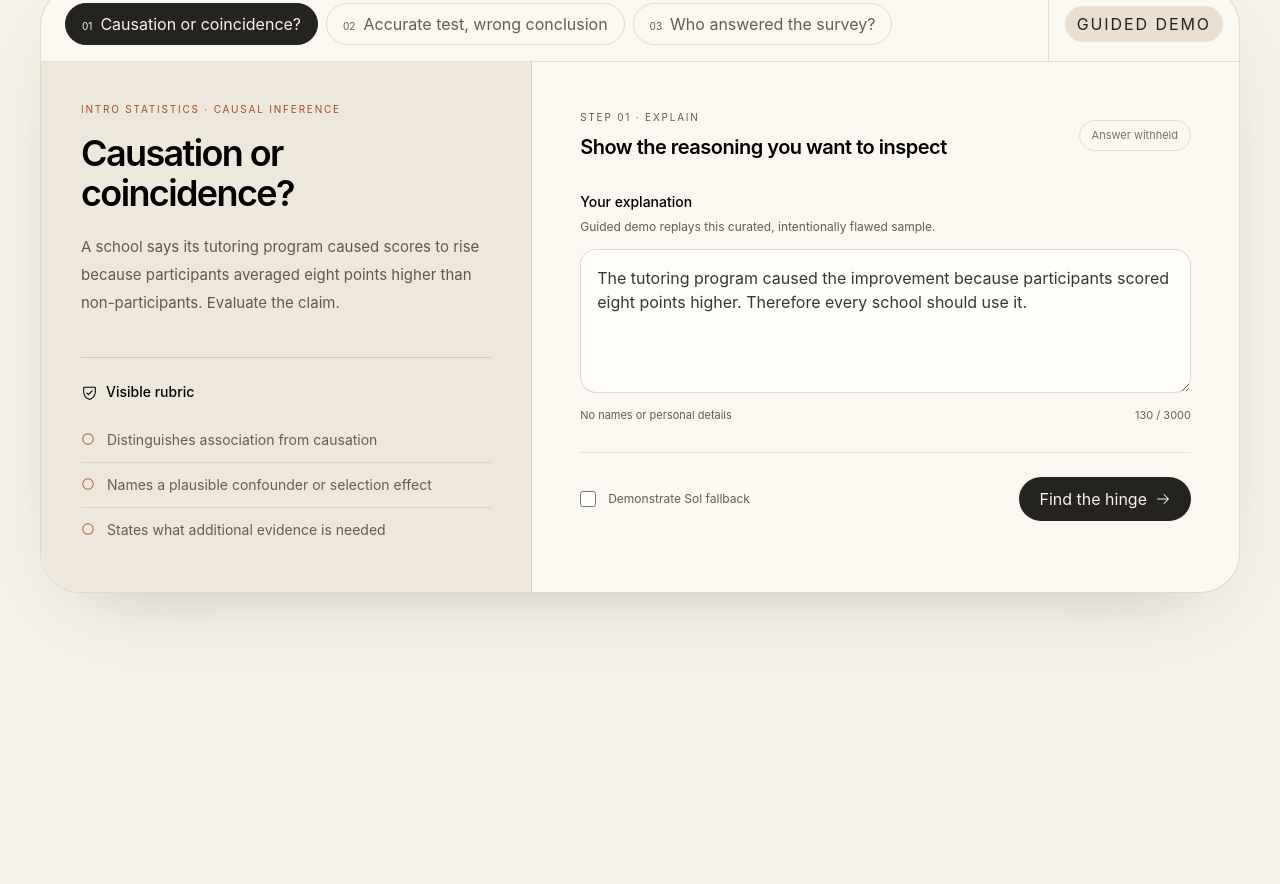
RepairStudio › retries a failed receipt without losing the learner revision
Click the button "Find the hinge" at {"x": 1105, "y": 498}, box x1=1020 y1=476 x2=1191 y2=520
(page scrolled)
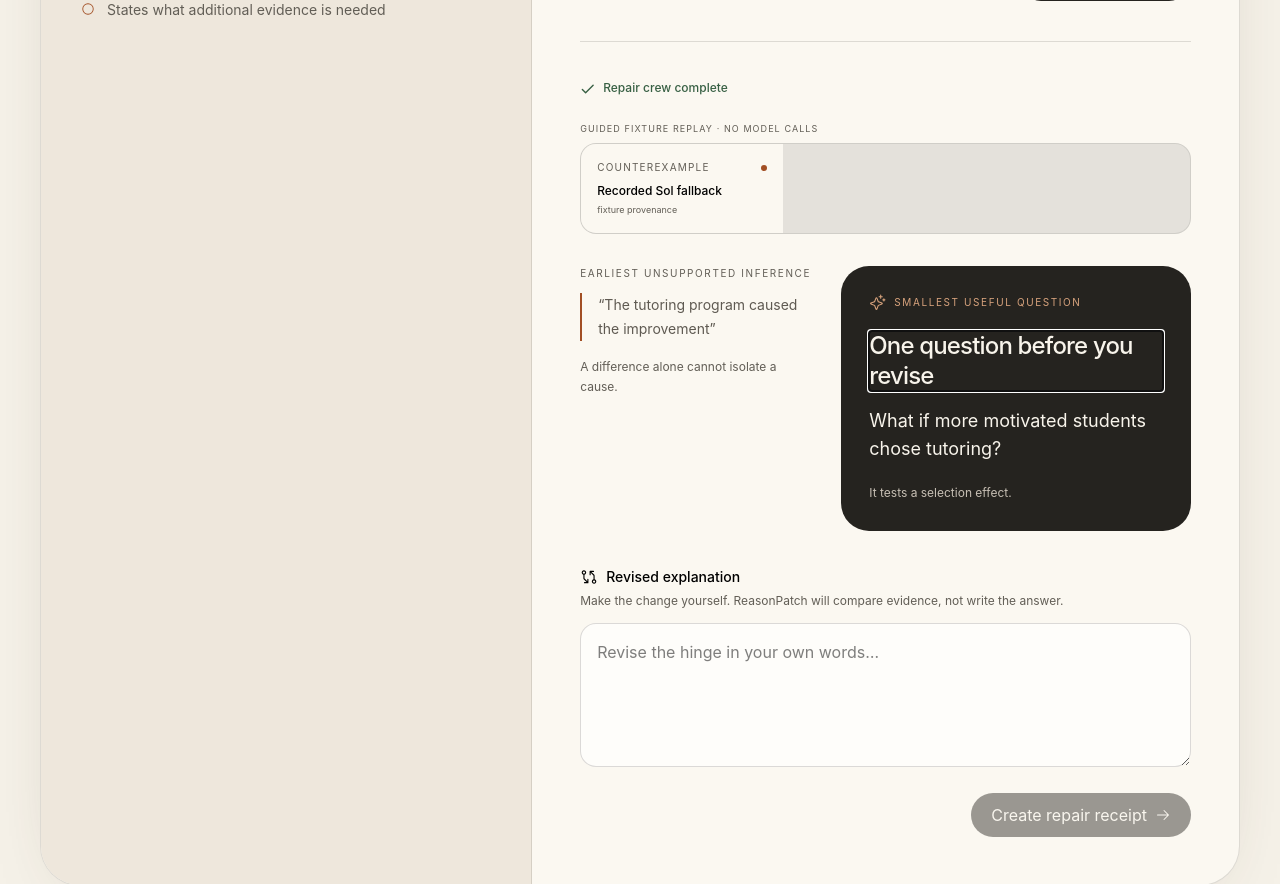
Type "The observed difference does not establish causation because students self-selected; a controlled comparison would be stronger." into the text box labelled "Revised explanation" at {"x": 886, "y": 694}, box x1=580 y1=622 x2=1191 y2=766
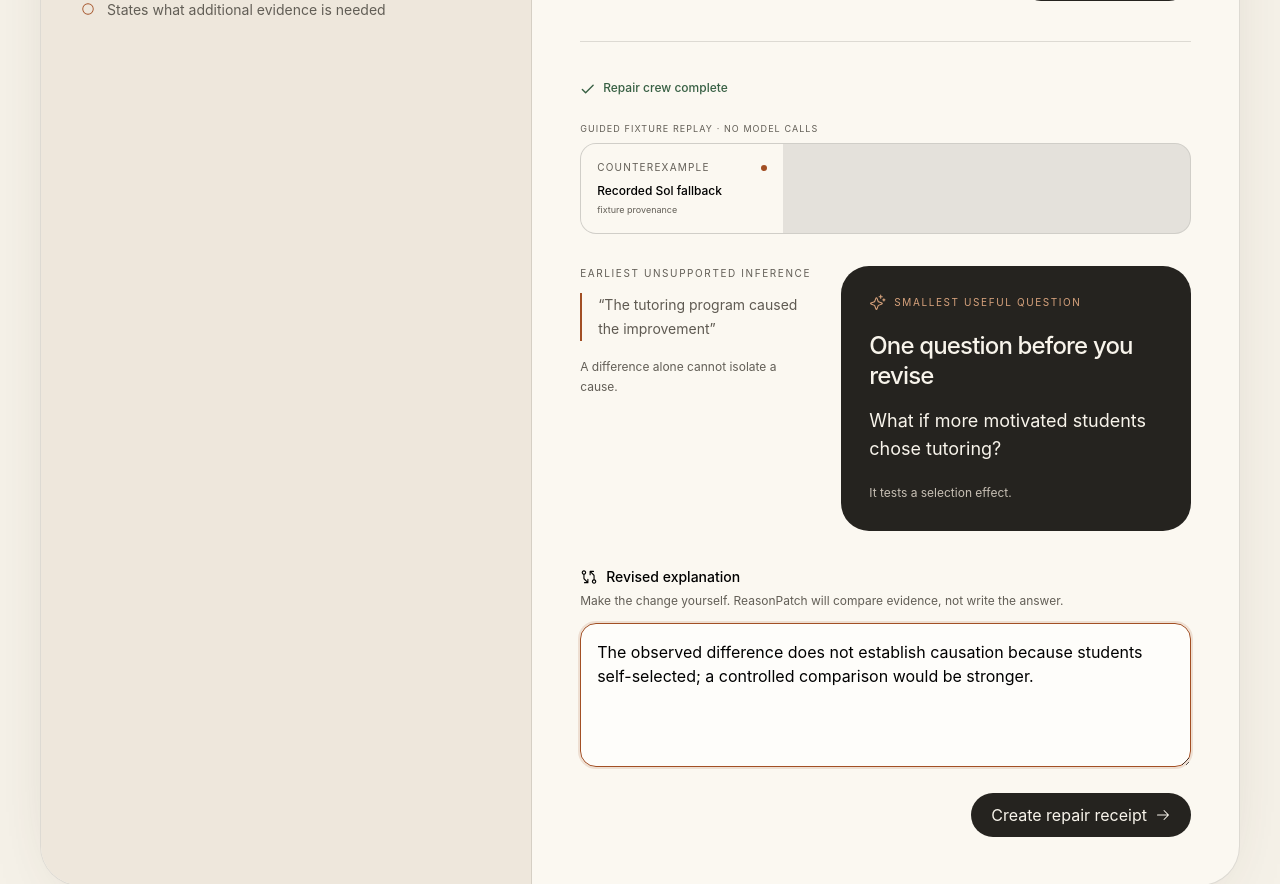
Click the button "Create repair receipt" at {"x": 1081, "y": 814}, box x1=971 y1=792 x2=1191 y2=836
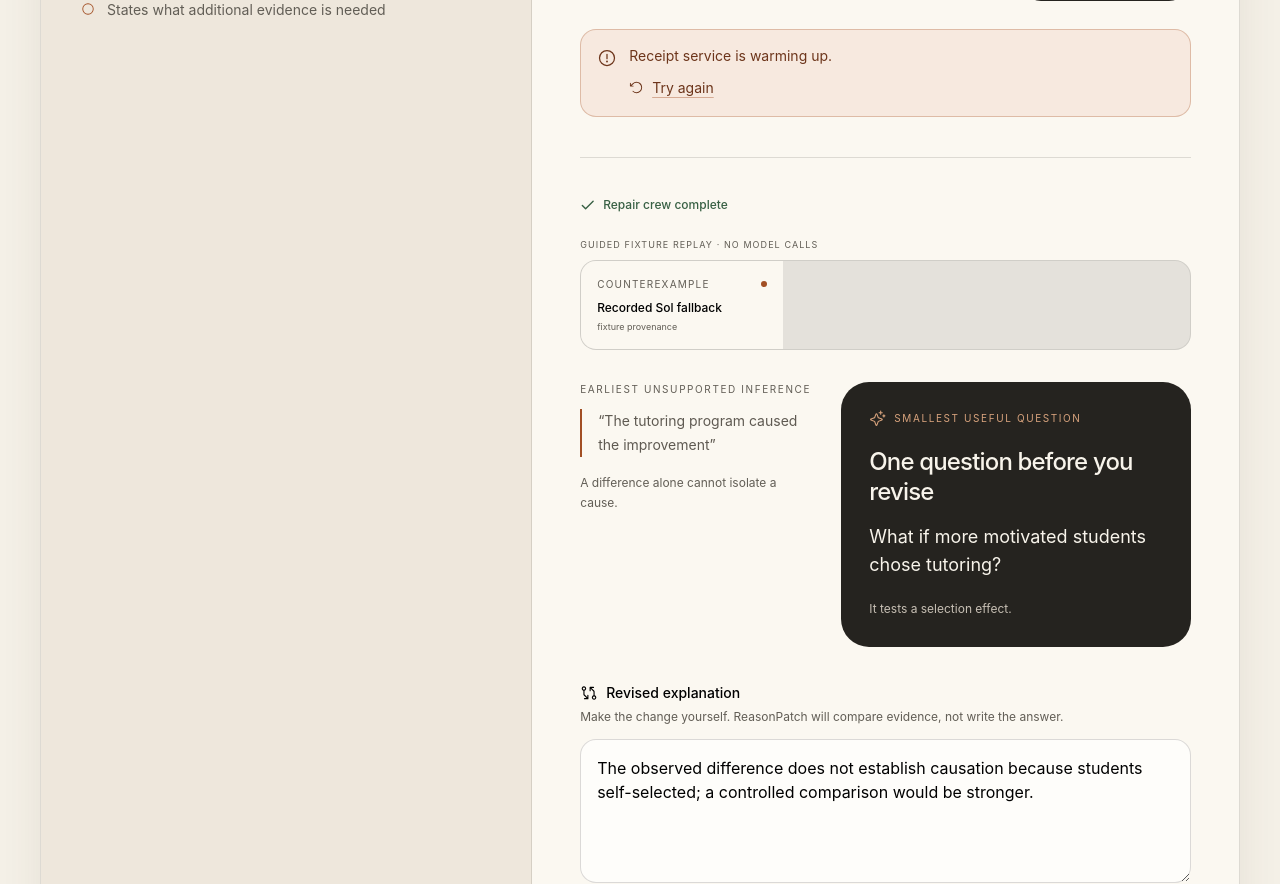
Check: the message "Receipt service is warming up. Try again" is shown, box x1=580 y1=28 x2=1191 y2=117
Click the button "Try again" at {"x": 671, "y": 88}, box x1=629 y1=78 x2=714 y2=98
(page scrolled)
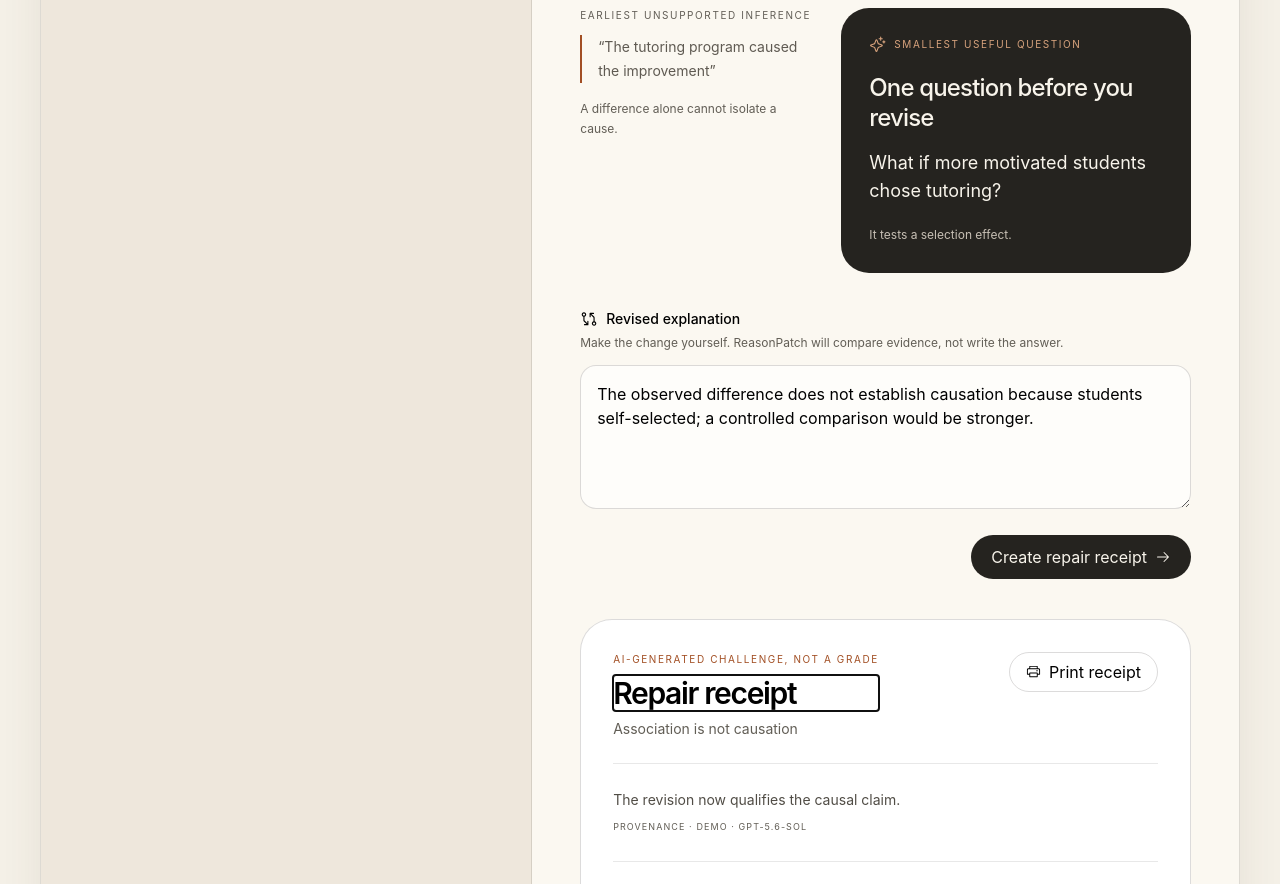
Check: the heading "Repair receipt" is shown, box x1=613 y1=674 x2=796 y2=710
